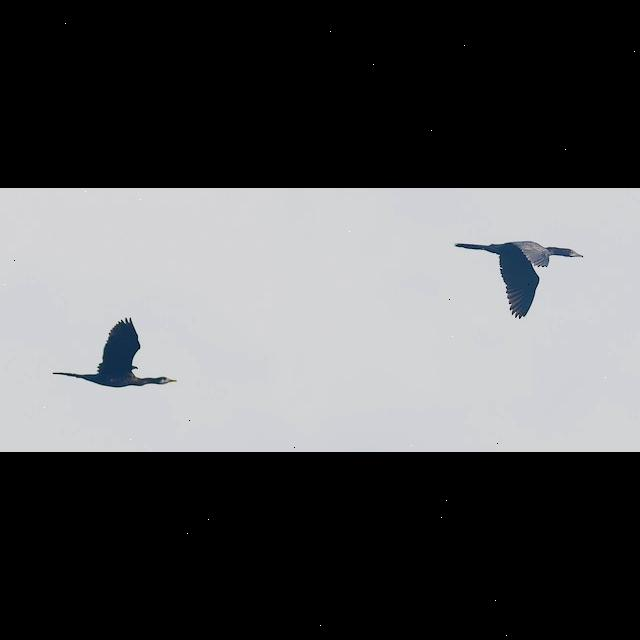cormorant: (452, 240, 590, 316), (47, 319, 179, 393)
